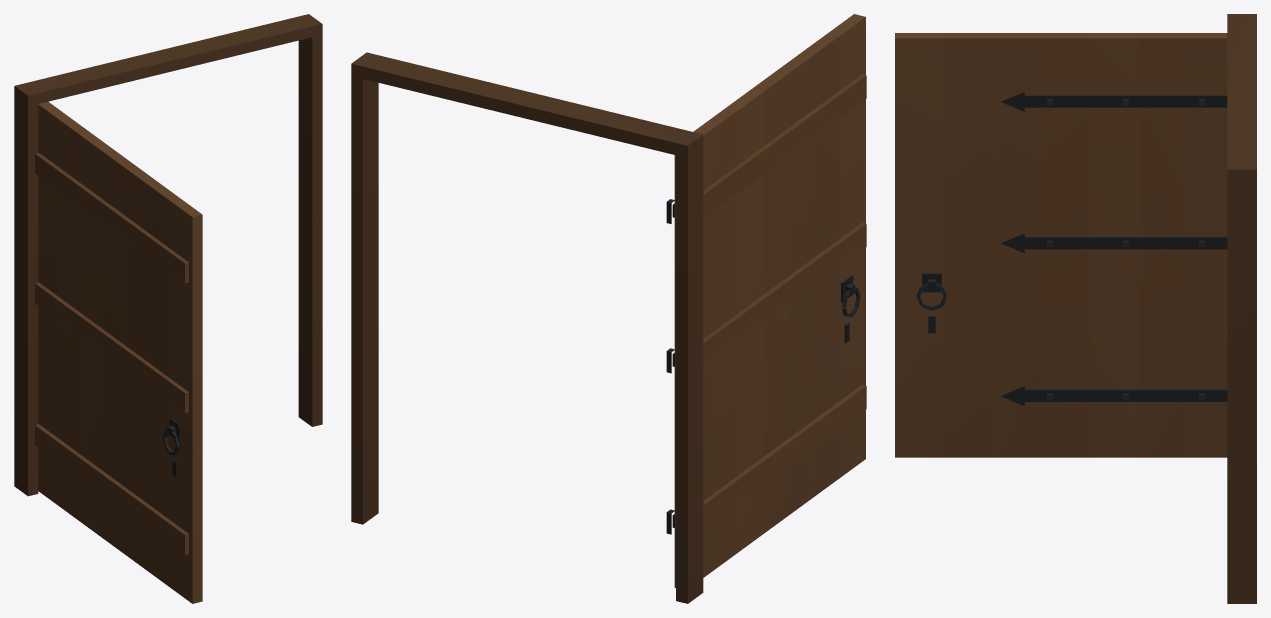
Rendered from door.oak_open.oak.glb.
3 renders of one model, left to right at view 1: azimuth 30°, elevation 25°; view 2: azimuth 150°, elevation 25°; view 3: azimuth 270°, elevation 25°, orthographic. The views are drawn at different scales.
Visible parts, largest first — view 1: door_oak_open_oak; view 2: door_oak_open_oak; view 3: door_oak_open_oak.
Part boxes in pixels (bbox=[...]): door_oak_open_oak: bbox=[14, 14, 322, 603]; door_oak_open_oak: bbox=[351, 14, 866, 603]; door_oak_open_oak: bbox=[895, 14, 1256, 603].
Size of what is drawn, in the model's own units: 2 by 2.6 by 1.96.
